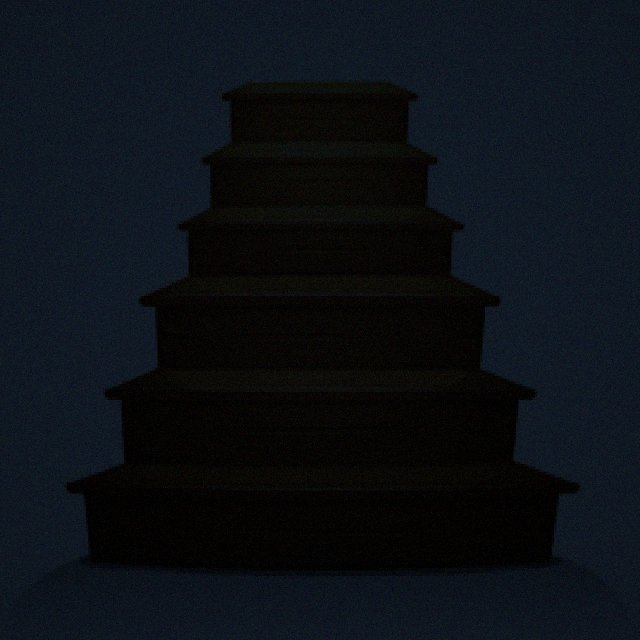stair: (70, 83, 577, 567)
